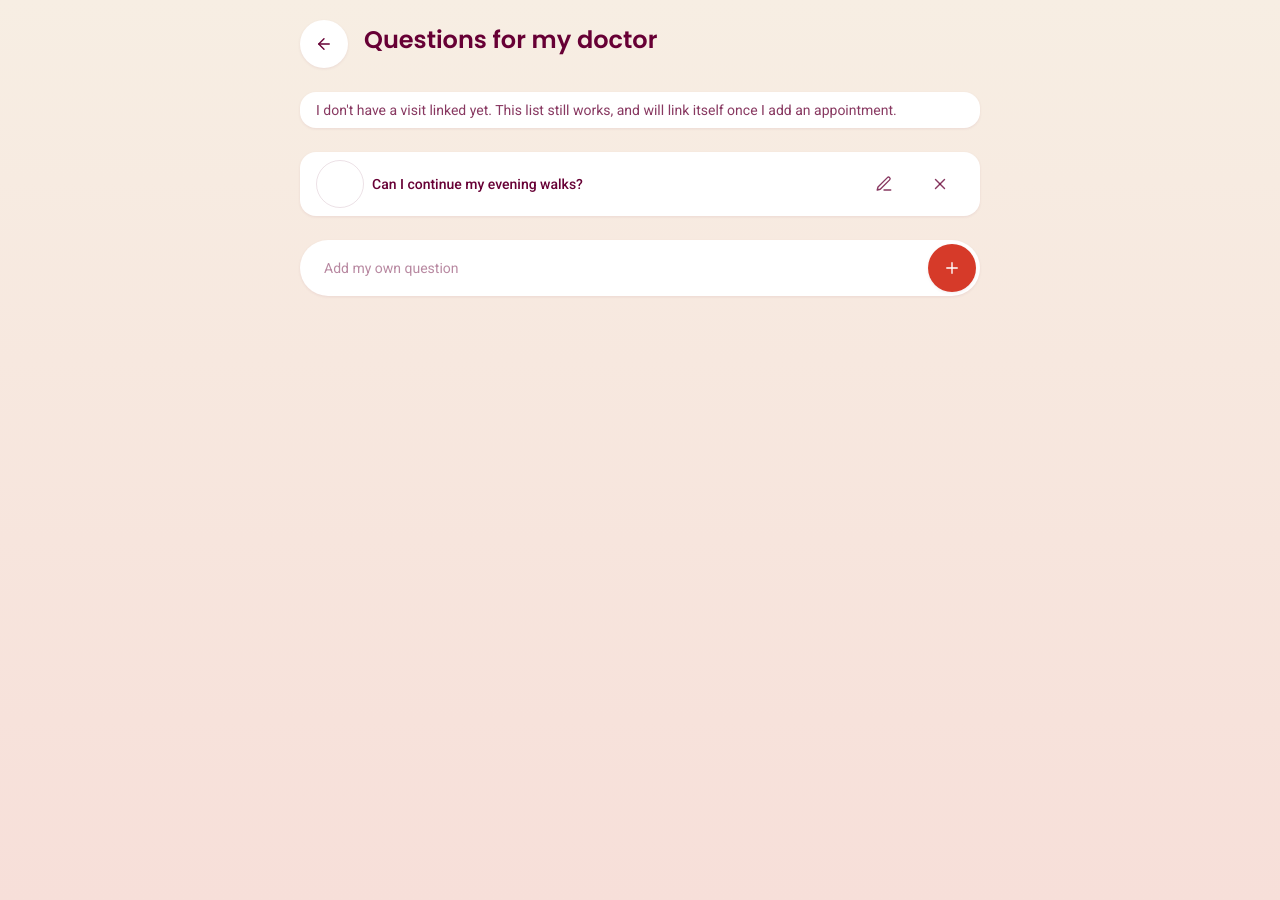
Test: SuggestedQuestions › removes a custom question and shows the removed toast
Click the button named "Remove question". click: click(940, 184)
box: [916,160,964,208]
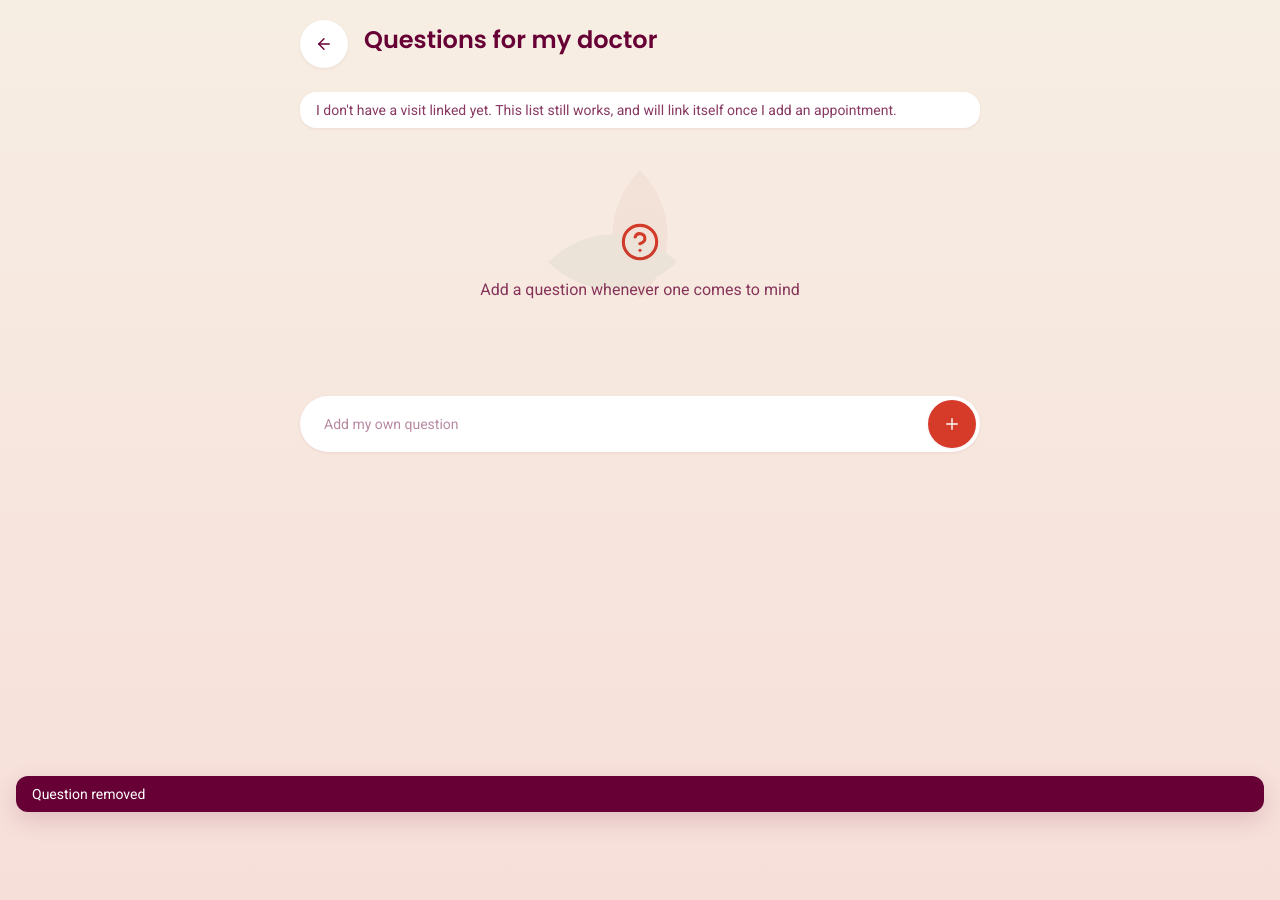
Result: the button "Can I continue my evening walks?" is gone
Result: the text "Question removed" is shown at [16,776,1264,812]
